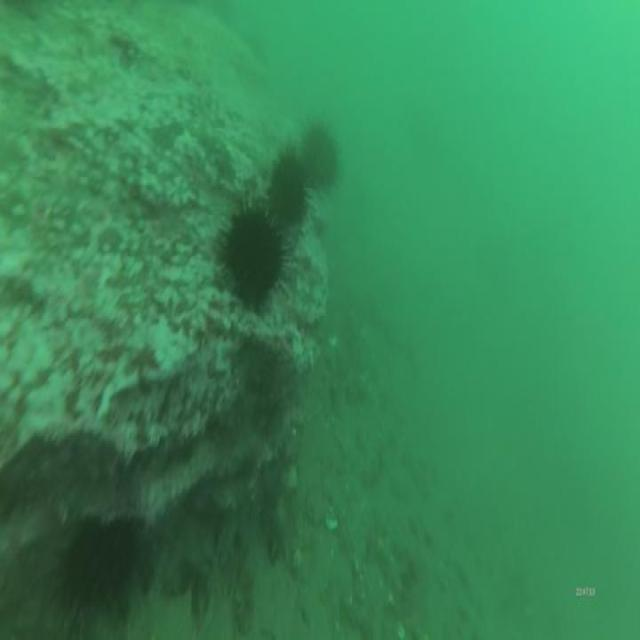echinus: (47, 516, 137, 630), (216, 188, 290, 318), (263, 142, 316, 237), (294, 108, 345, 200)
